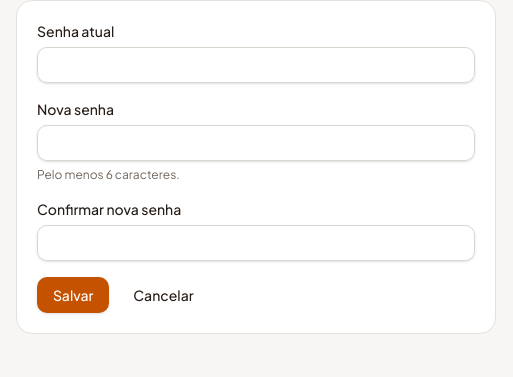
Test: AlterarSenhaPage › senha atual incorreta (400 da API) aparece junto do campo "Senha atual" e não desloga
Type "antiga123" into the password field labelled "Senha atual".
click(256, 65); type("antiga123")  # box x1=37 y1=47 x2=475 y2=83
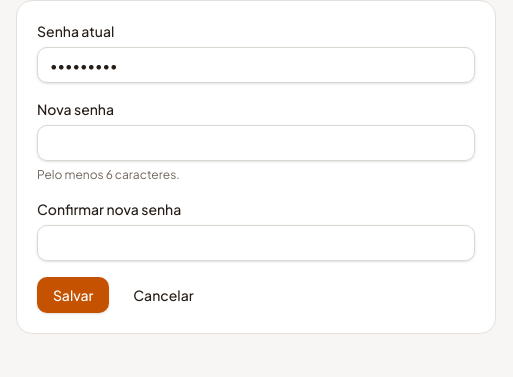
Type "novinha1" into the password field labelled "Nova senha".
click(256, 143); type("novinha1")  # box x1=37 y1=125 x2=475 y2=161
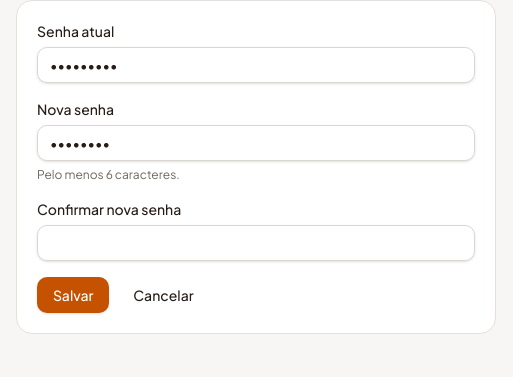
Type "novinha1" into the password field labelled "Confirmar nova senha".
click(256, 243); type("novinha1")  # box x1=37 y1=225 x2=475 y2=261
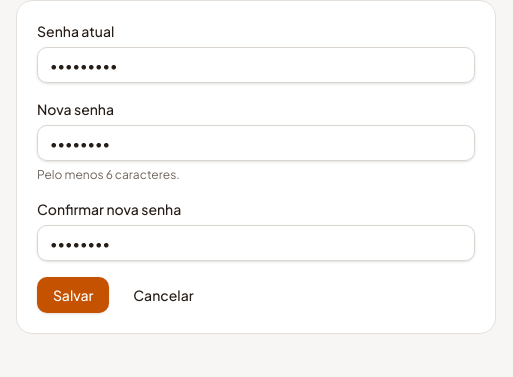
Click the button "Salvar".
click(73, 295)  # box x1=37 y1=277 x2=109 y2=313
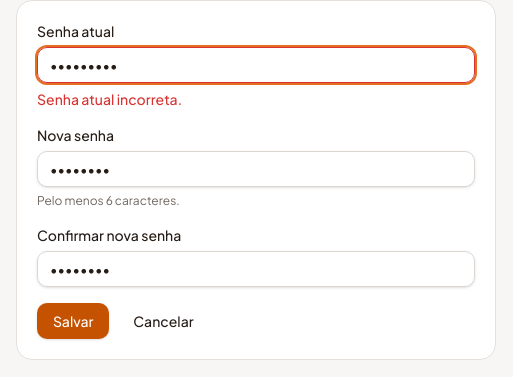
Check: the text "Senha atual incorreta." is shown, box x1=37 y1=90 x2=182 y2=108
